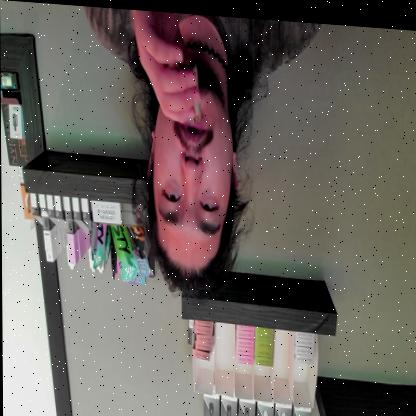streamer: (80, 5, 329, 307)
